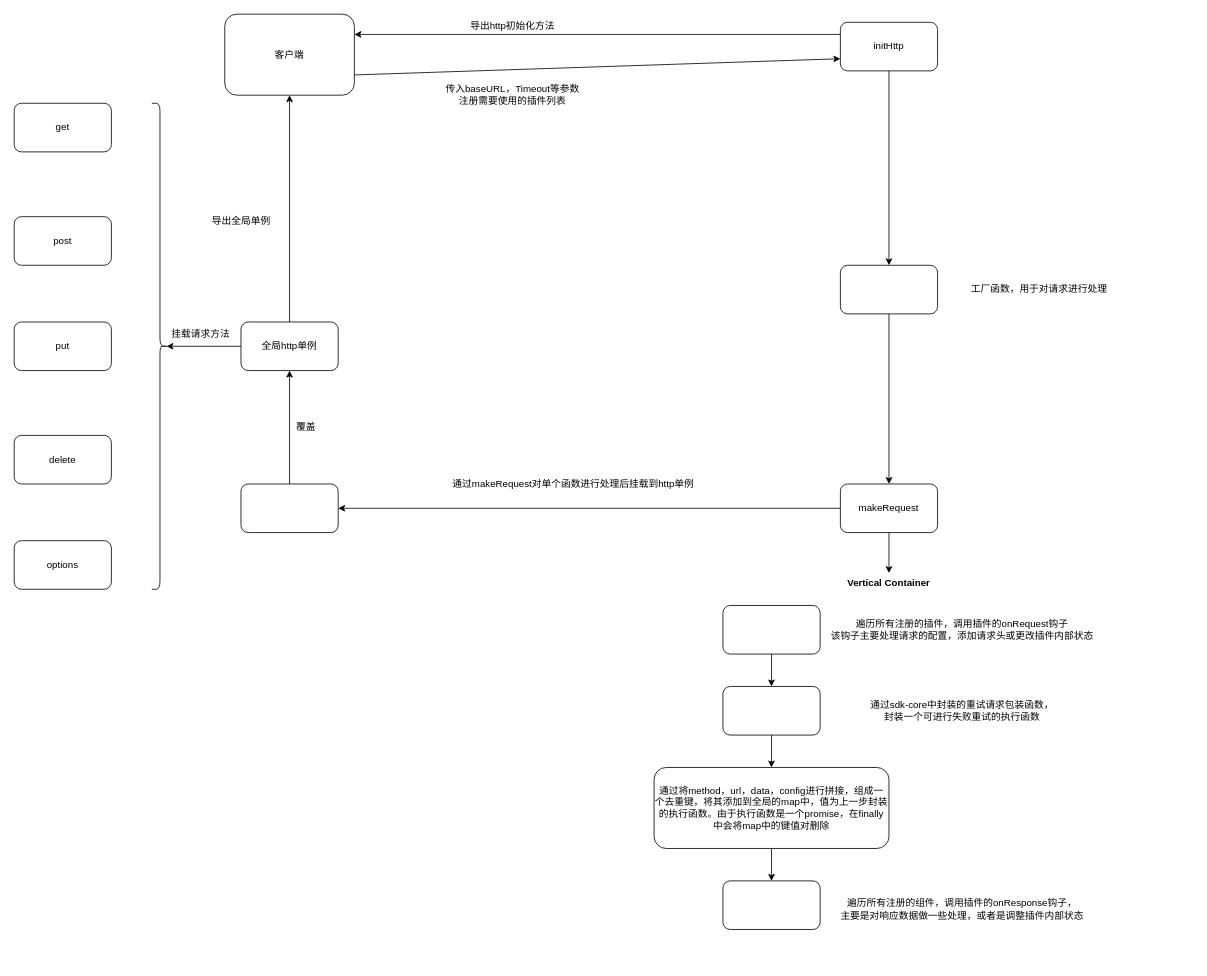
This 1207x976 diagram has some shape labels left out. Here are the shapes that lost their labels. From the top down, the centre of each, then its label:
At [889,289]: "创建axios实例".
At [289,508]: "client实例对象 内部为各种请求方法".
At [771,629]: "applyOnRequest".
At [771,710]: "withRetry".
At [771,904]: "applyOnResponse".
